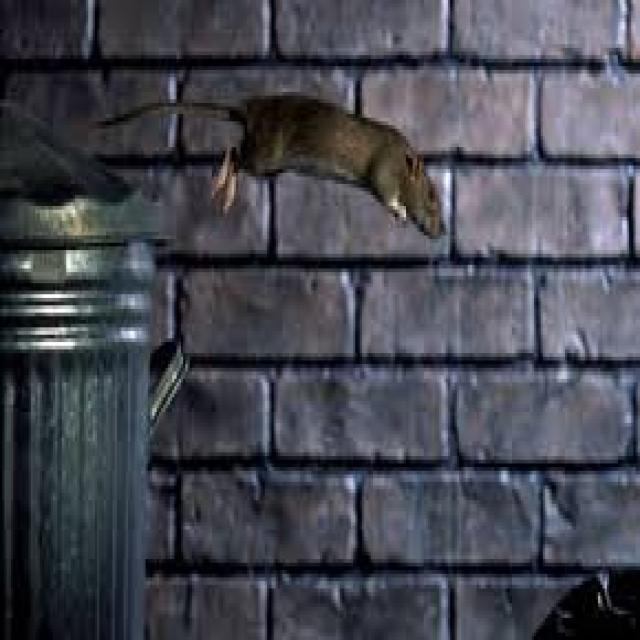Rat: (74, 39, 468, 249)
